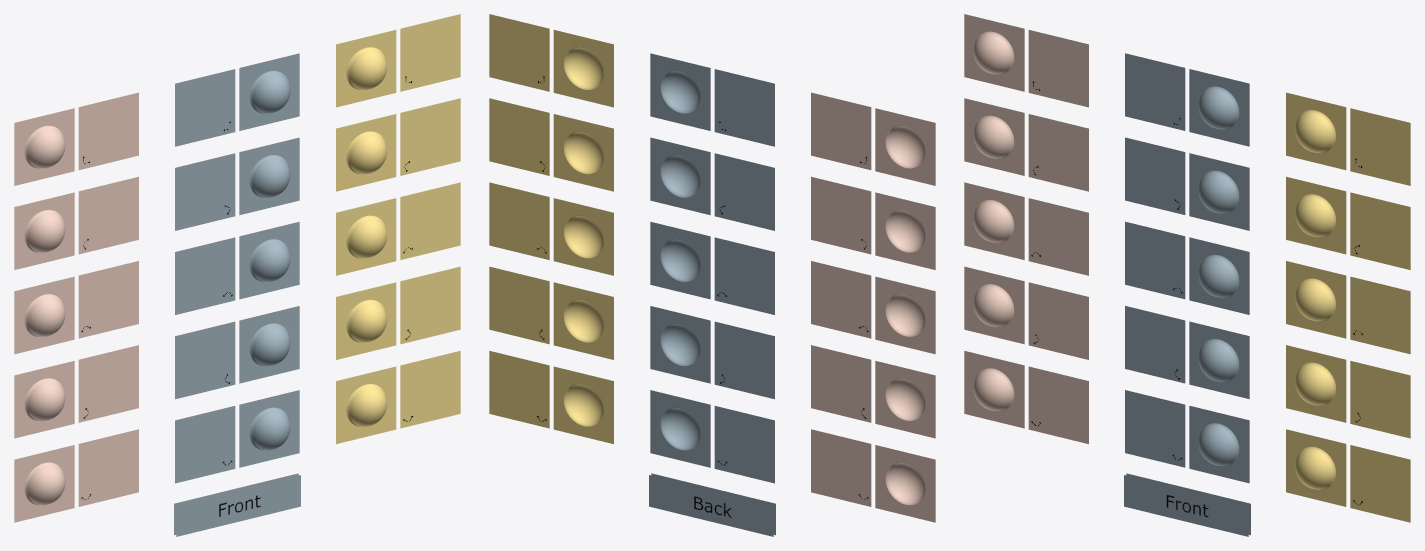
File: NormalTest.gltf
The picture shows the model from 3 angles, left to right: view 1: azimuth 30°, elevation 25°; view 2: azimuth 150°, elevation 25°; view 3: azimuth 330°, elevation 25°; orthographic projection.
Visible parts, largest first — view 1: NormalTangentTest_low; view 2: NormalTangentTest_low; view 3: NormalTangentTest_low.
Part boxes in pixels (left/top/right/bottom): NormalTangentTest_low: left=14, top=14, right=460, bottom=536; NormalTangentTest_low: left=489, top=14, right=935, bottom=536; NormalTangentTest_low: left=964, top=14, right=1410, bottom=536.
Size of the model in its own units: 2.22 by 2.15 by 0.0905.
Materials: 1 (1 with a texture image).
